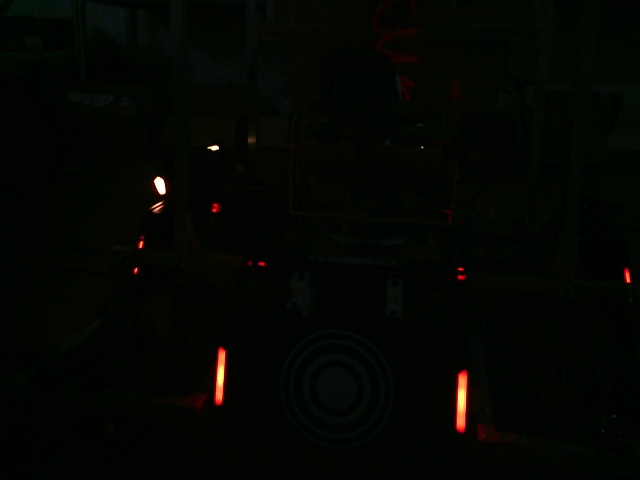lamp: (455, 366, 468, 435), (213, 345, 226, 408)
